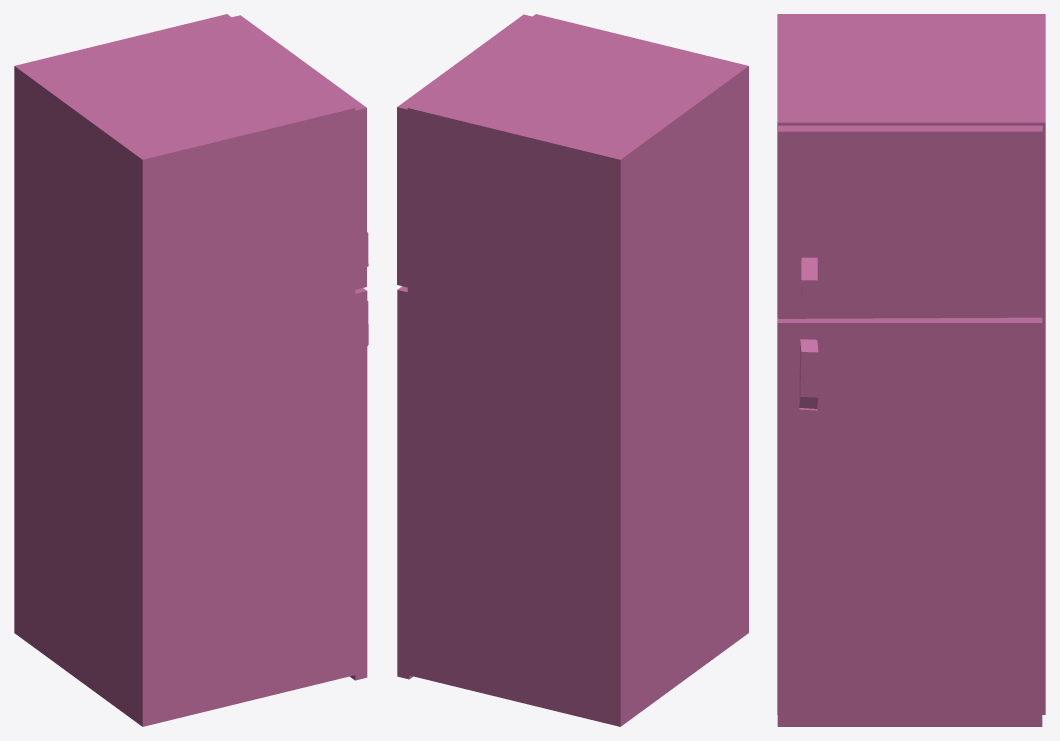
Rendered from Fridge.fbx.
3 views of the same model, side by side, from view 1: azimuth 30°, elevation 25°; view 2: azimuth 150°, elevation 25°; view 3: azimuth 270°, elevation 25° (orthographic). The views are drawn at different scales.
Visible parts, largest first — view 1: Fridge, doorFridgeDown, doorFridgeUp; view 2: Fridge, doorFridgeDown, doorFridgeUp; view 3: doorFridgeDown, doorFridgeUp, Fridge.
Boxes of the visible parts, x1,y1,x2,y2 form: Fridge: (14,14,355,726); doorFridgeDown: (350,288,368,680); doorFridgeUp: (232,15,368,289); Fridge: (407,14,748,726); doorFridgeDown: (397,286,413,679); doorFridgeUp: (397,14,531,287); doorFridgeDown: (777,317,1042,726); doorFridgeUp: (778,125,1042,318); Fridge: (777,14,1045,714).
Size of the model in its own units: 44.79 by 103 by 41.99.
